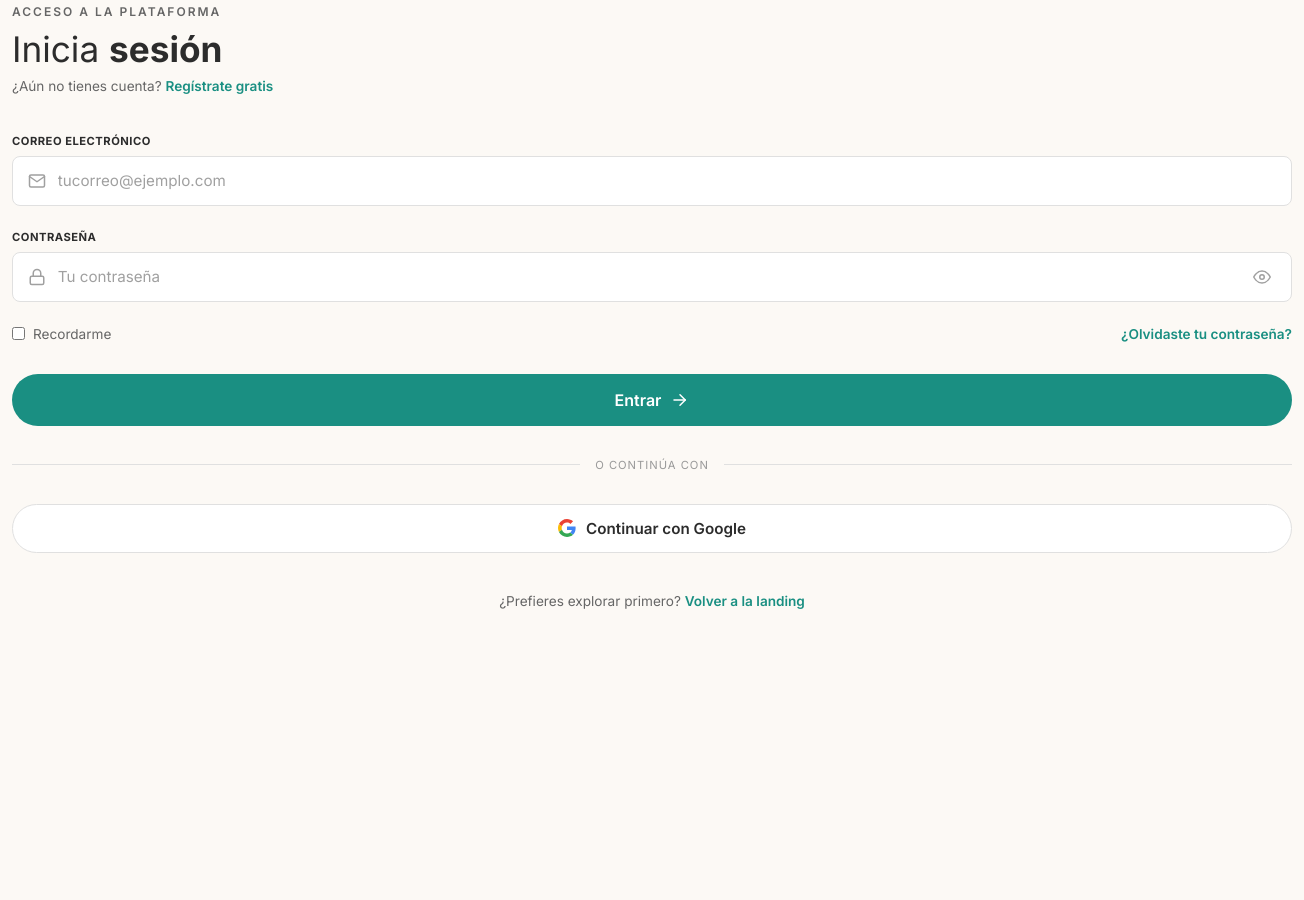
Test: LoginForm › exige contraseña
In the field labelled "CORREO ELECTRÓNICO": (652, 181) [12, 156, 1292, 206], type "renata@ejemplo.com"
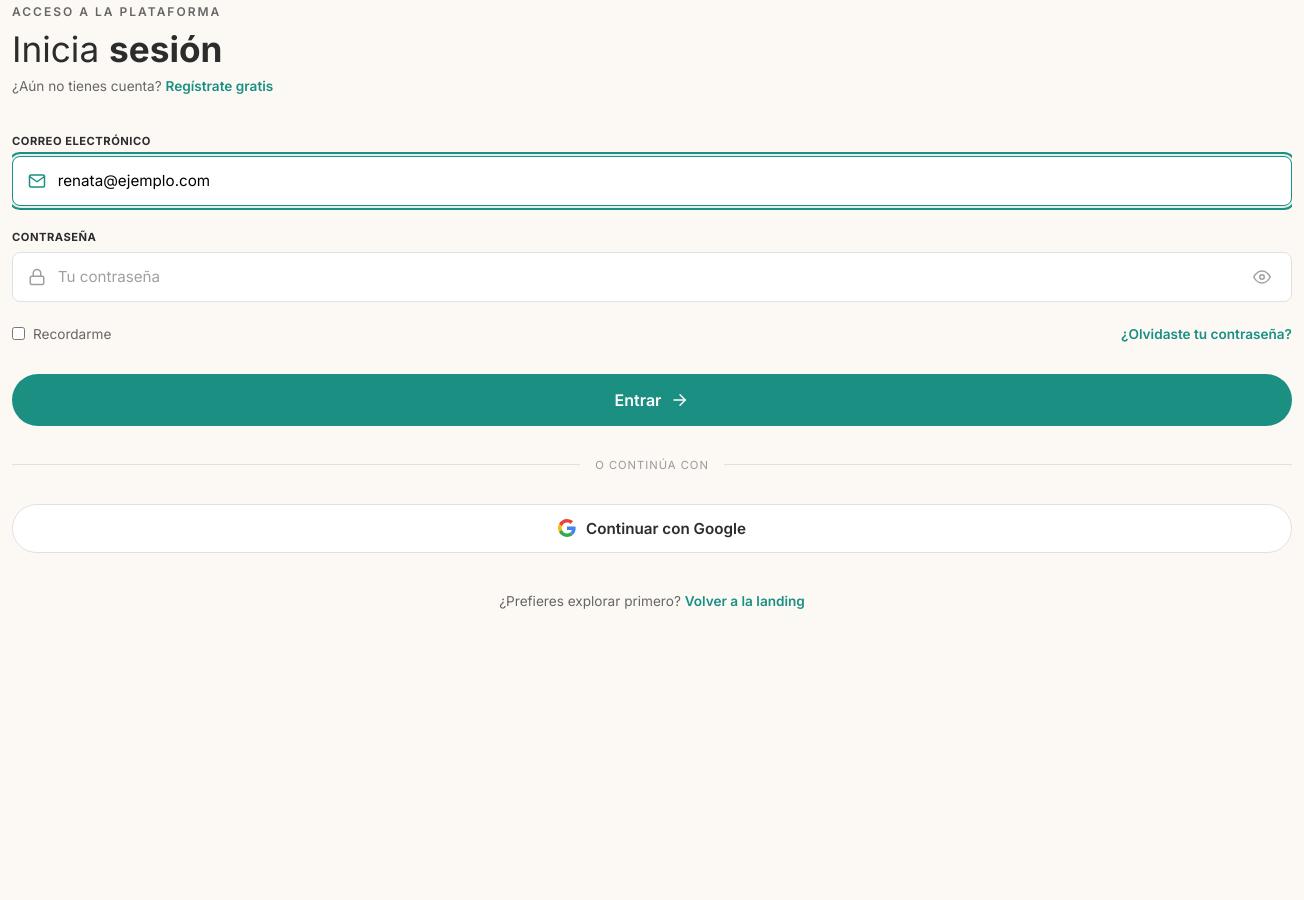
Click the button "Entrar": click(652, 400) [12, 374, 1292, 426]
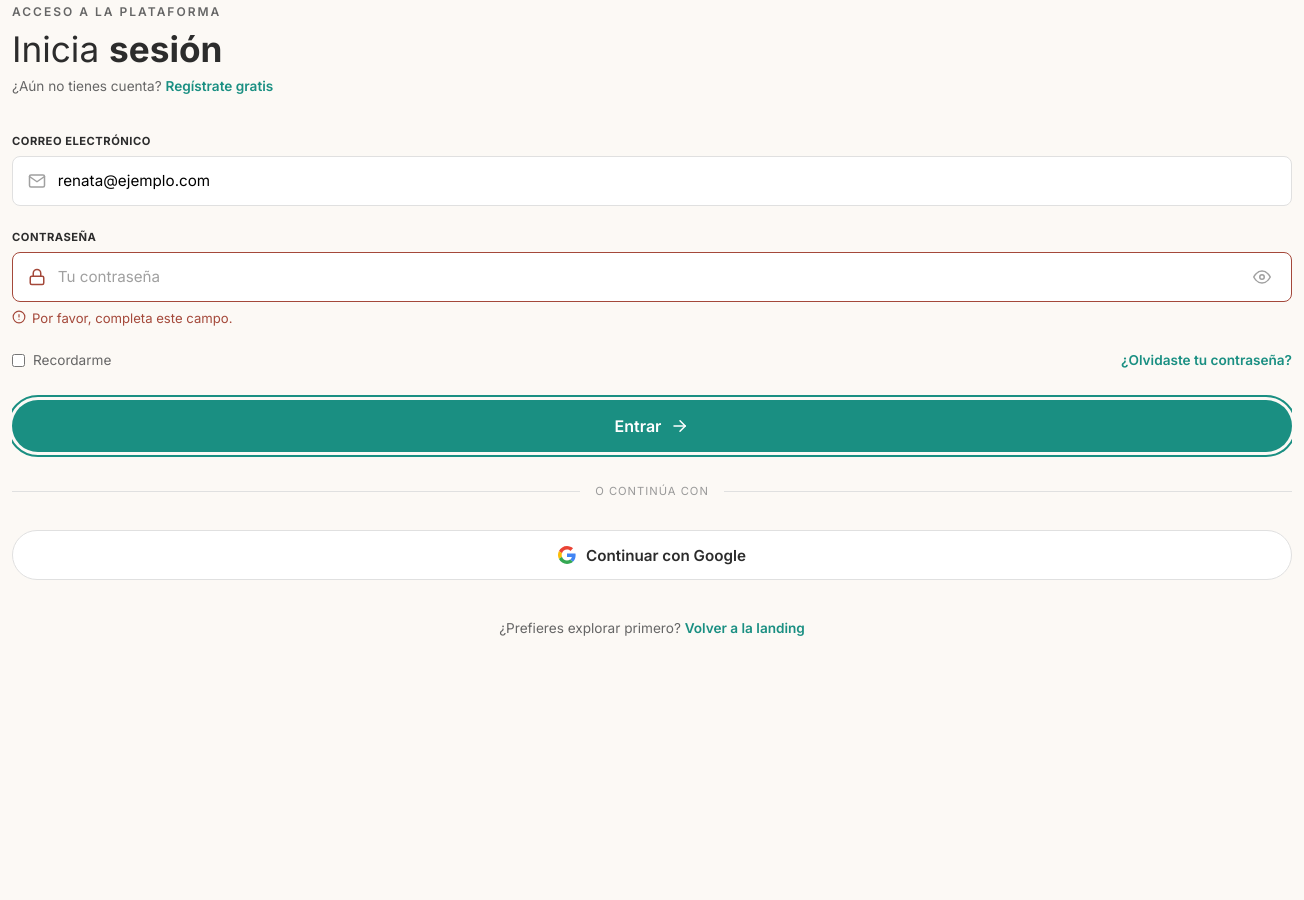
Check: the text "Por favor, completa este campo." is shown, box [32, 309, 232, 328]
